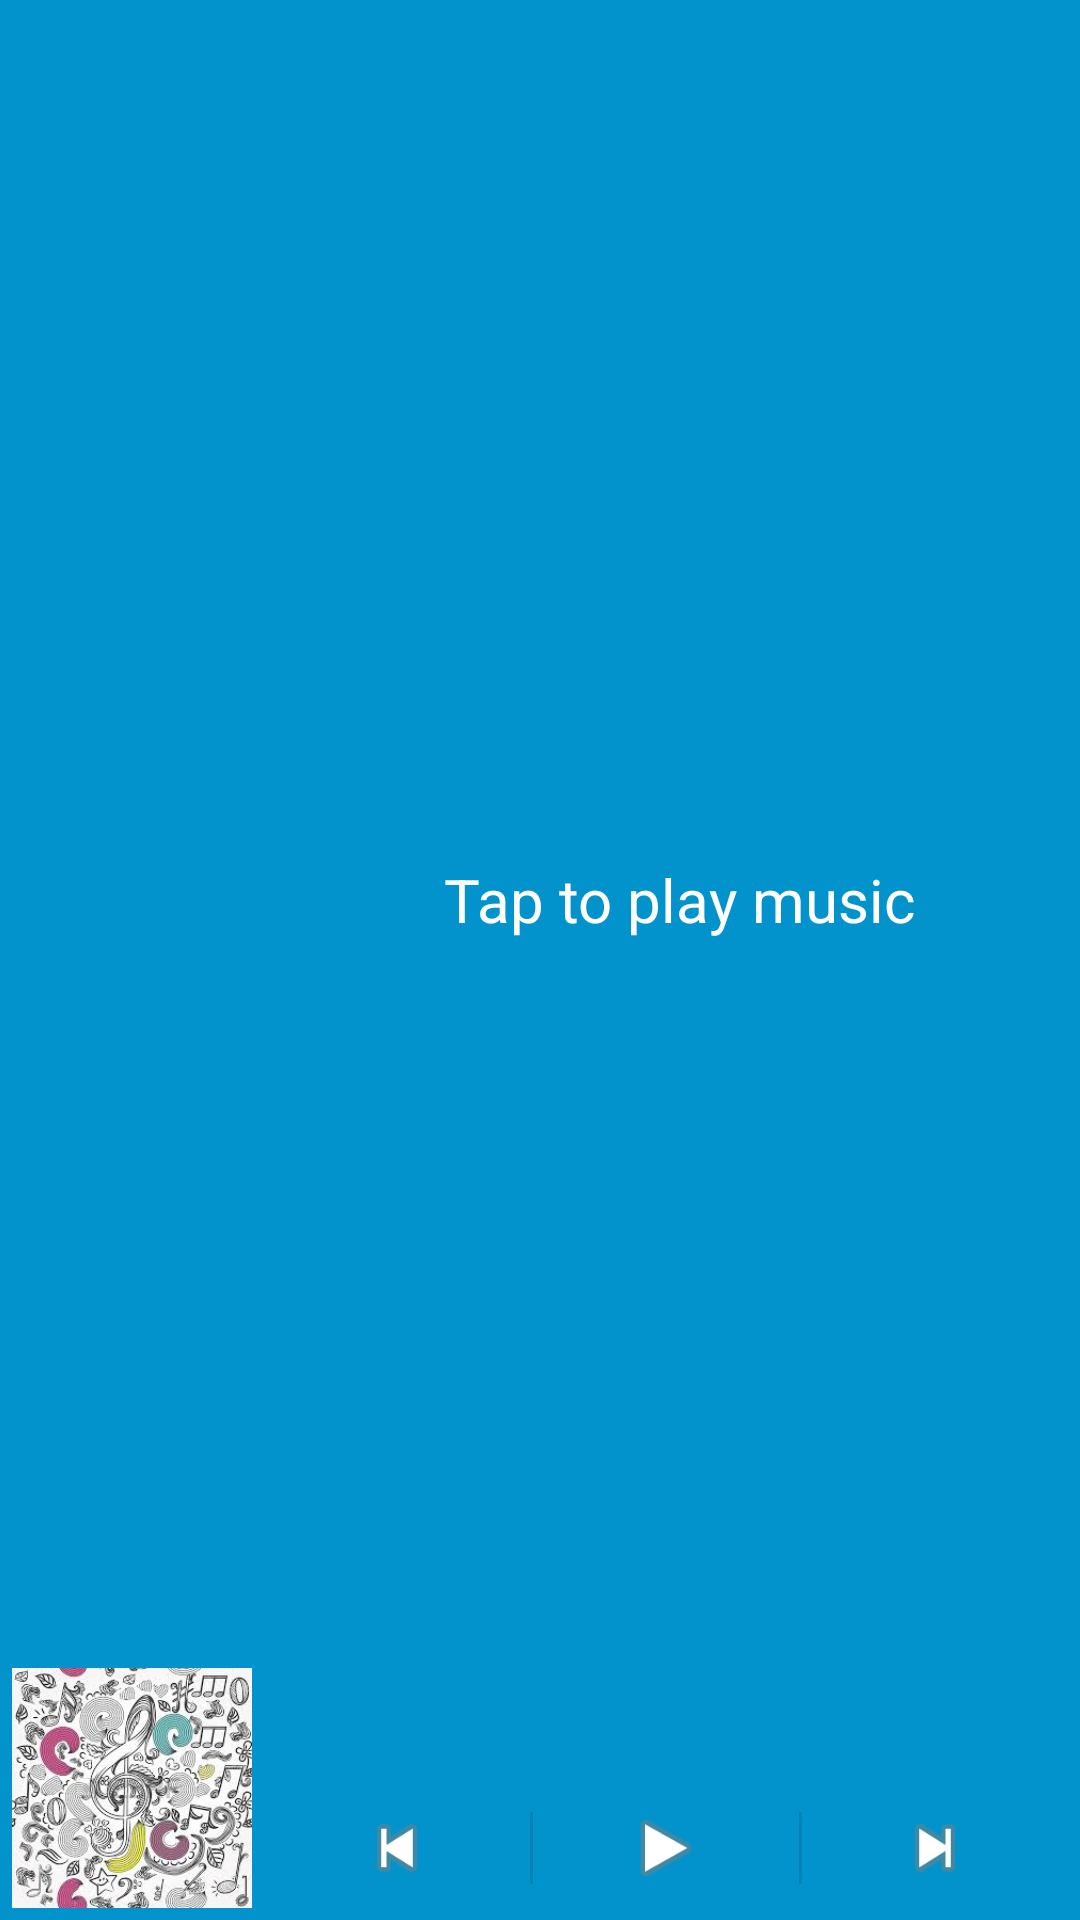

Icon bounding boxes for this 1080 x 1920 phone screenshot, format box=[x1, y1, x2, y2]:
artwork: box=[12, 1668, 252, 1908]
next: box=[915, 1824, 955, 1872]
play: box=[641, 1820, 691, 1876]
previous: box=[377, 1824, 417, 1872]
